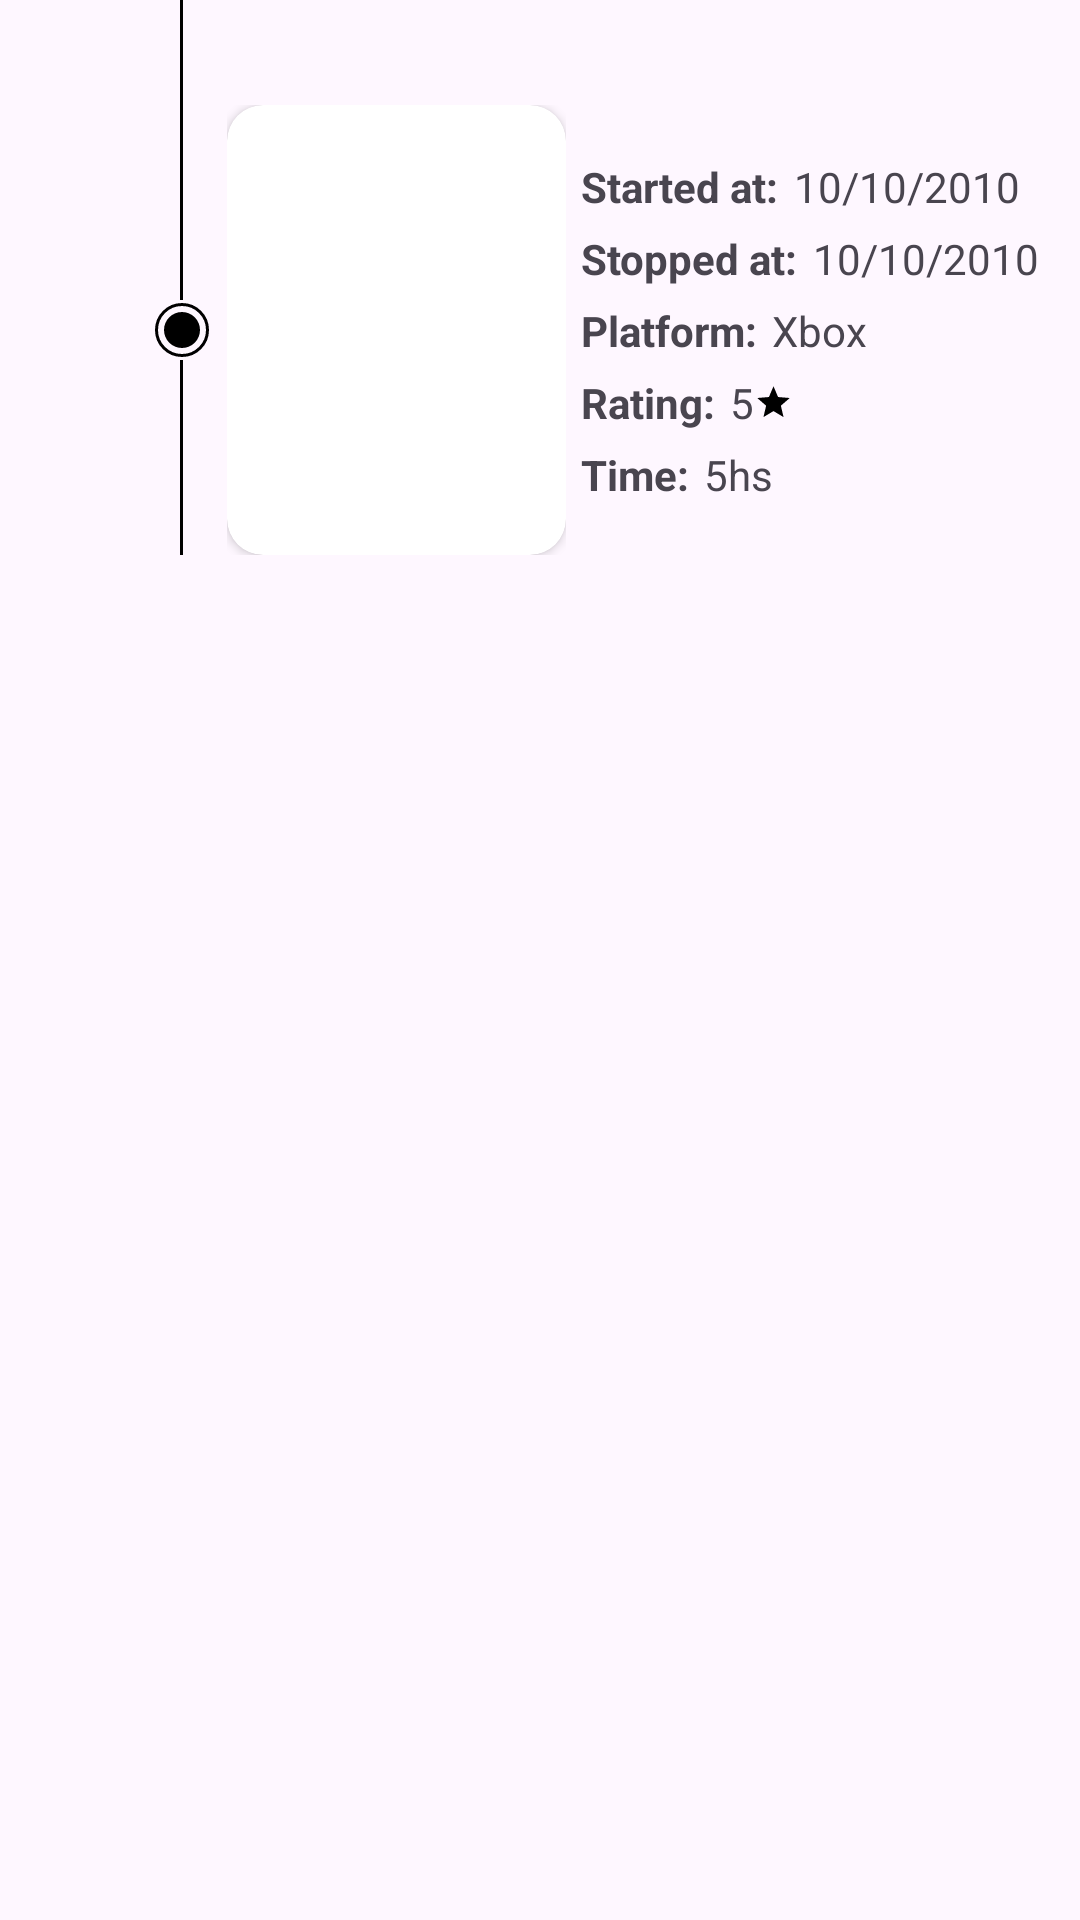

Icons on this 1080px×1920px Android screen, each with the point to tap as (x=x, y=y):
circle: (x=182, y=330)
